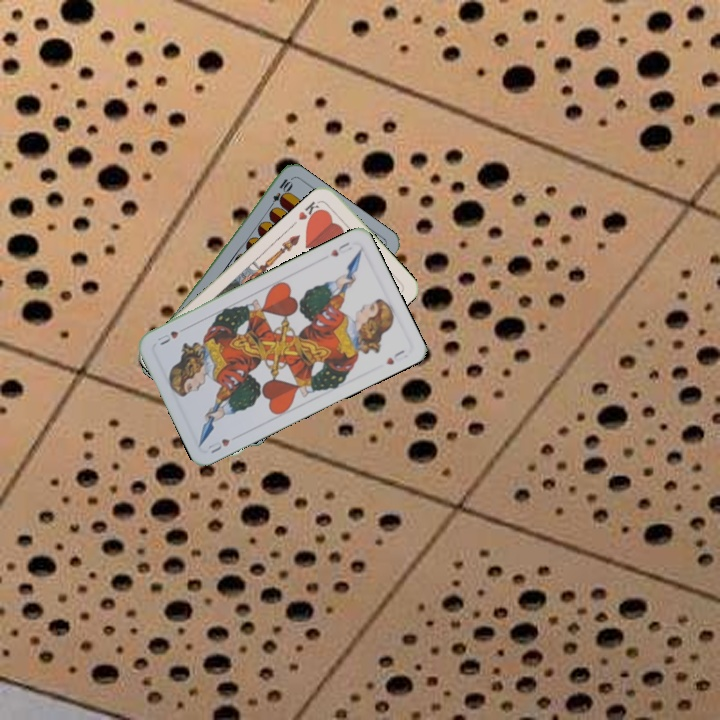E10: (265, 174, 294, 212)
HK: (294, 197, 325, 225)
HU: (326, 238, 355, 259), (204, 435, 233, 456)
